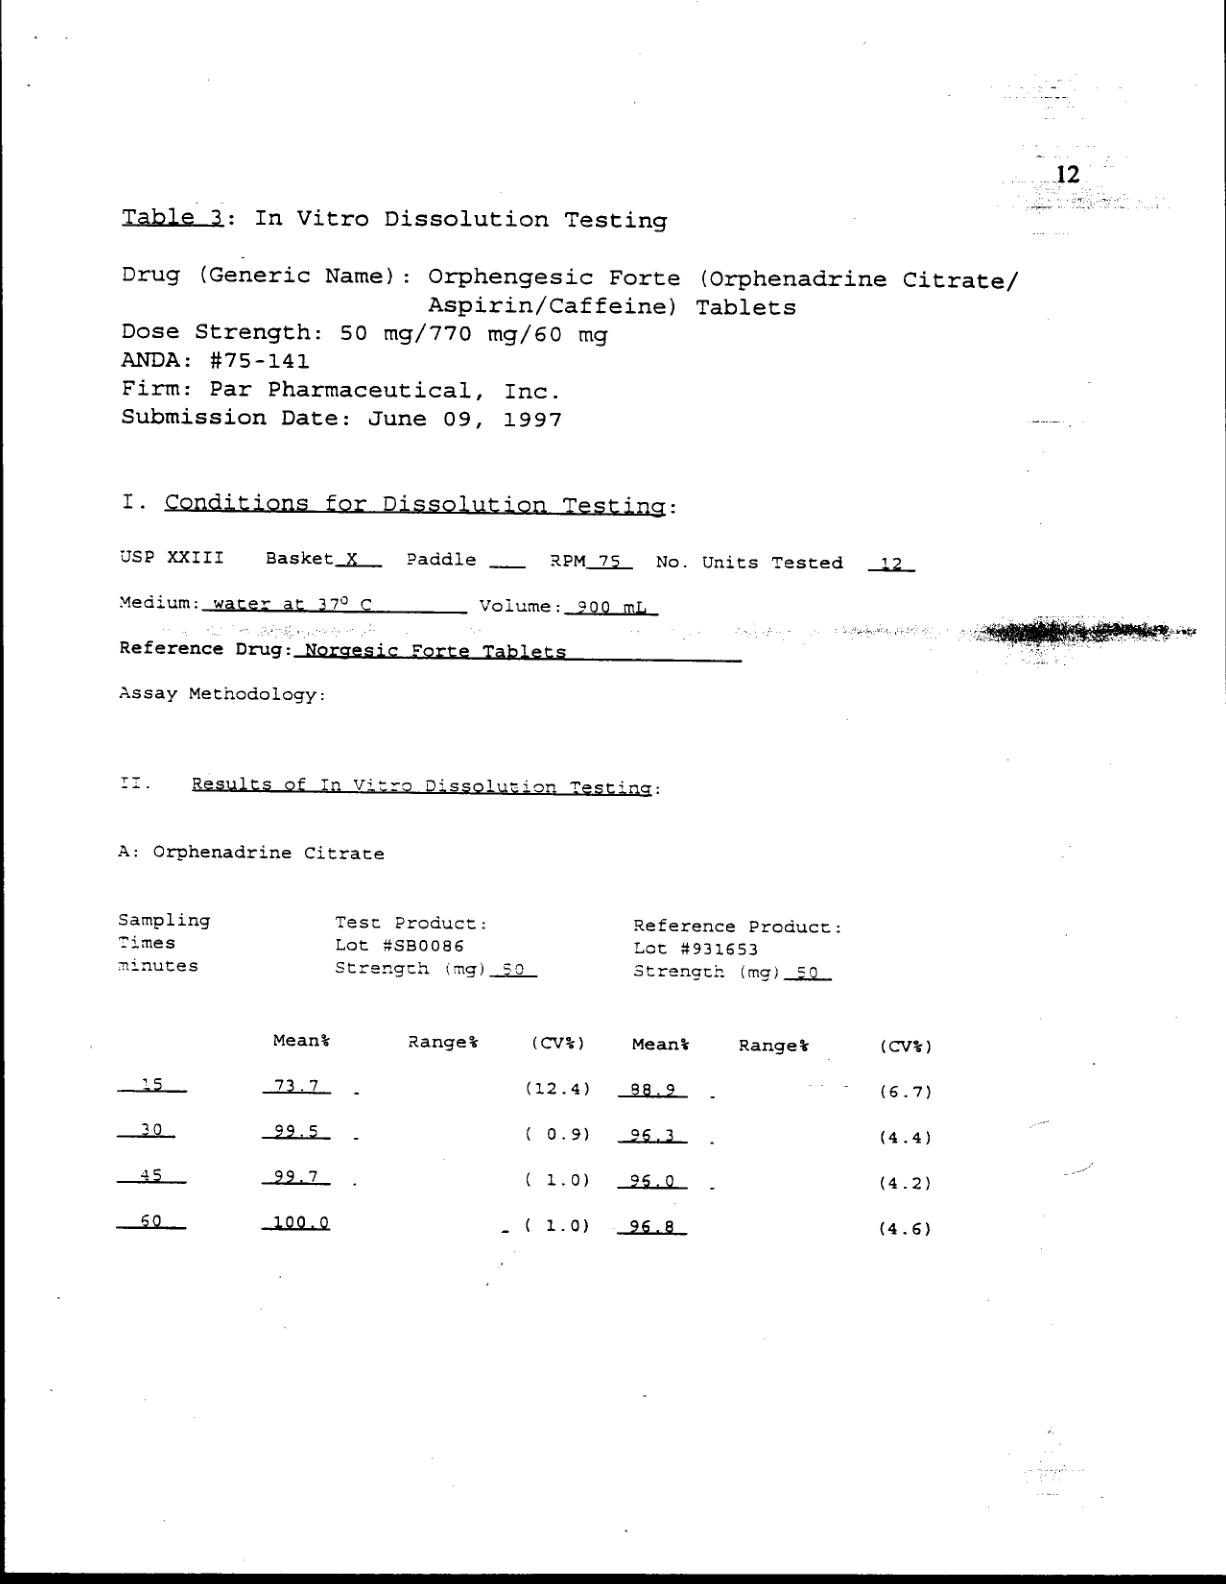nolines: (114, 1032, 937, 1236), (112, 909, 842, 985)
